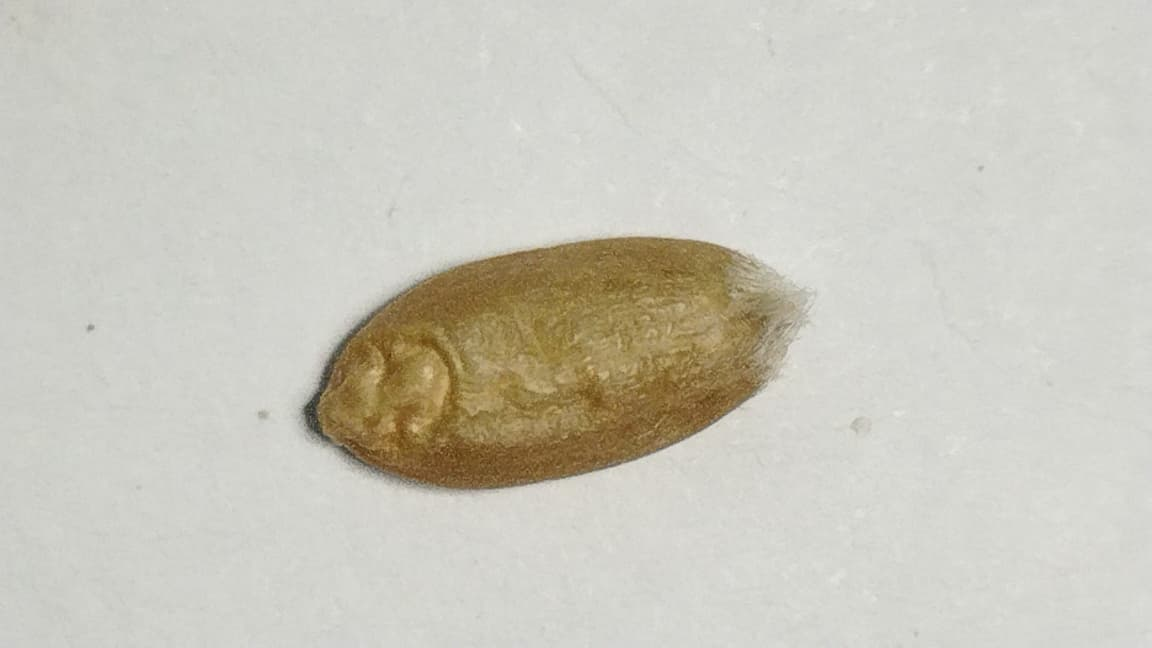healthy: (314, 237, 793, 488)
